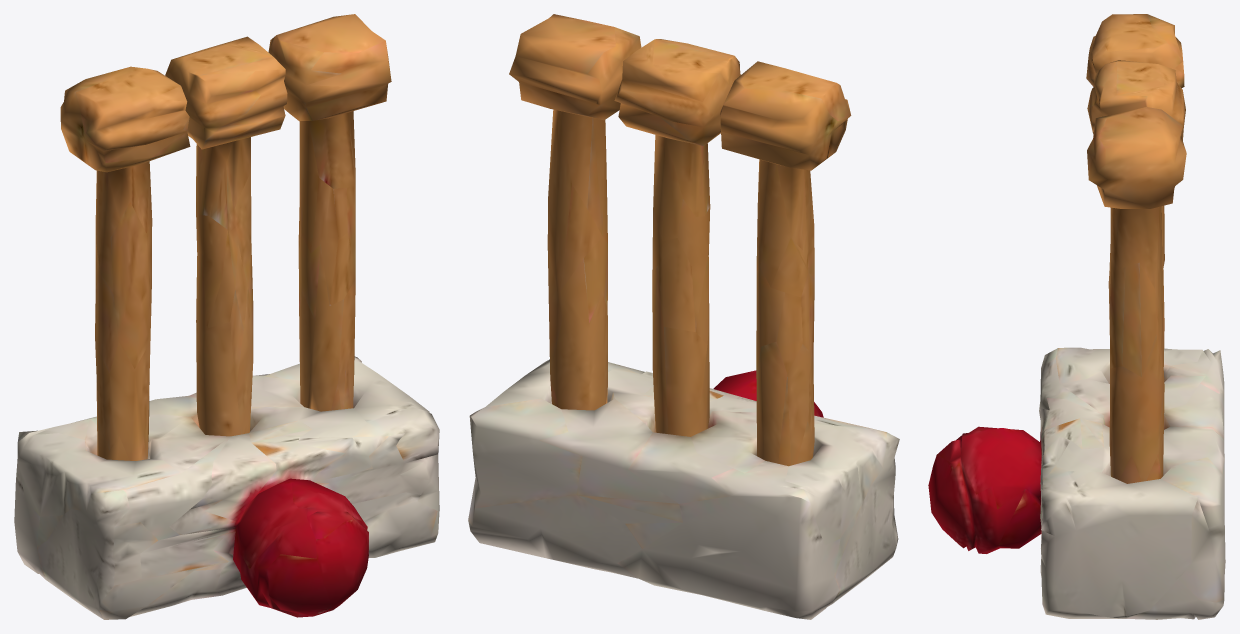
Rendered from stumps.glb.
3 renders of one model, left to right at view 1: azimuth 30°, elevation 25°; view 2: azimuth 150°, elevation 25°; view 3: azimuth 270°, elevation 25°, orthographic. The views are drawn at different scales.
Visible parts, largest first — view 1: tripo_node_b997d930-64cc-4d95-aebe-46207b29038e; view 2: tripo_node_b997d930-64cc-4d95-aebe-46207b29038e; view 3: tripo_node_b997d930-64cc-4d95-aebe-46207b29038e.
Boxes of the visible parts, <box> form: tripo_node_b997d930-64cc-4d95-aebe-46207b29038e: <box>14,14,439,619</box>; tripo_node_b997d930-64cc-4d95-aebe-46207b29038e: <box>468,14,899,619</box>; tripo_node_b997d930-64cc-4d95-aebe-46207b29038e: <box>928,14,1225,619</box>.
Size of the model in its own units: 0.7033 by 0.9794 by 0.5581.
Materials: 1 (1 with a texture image).
